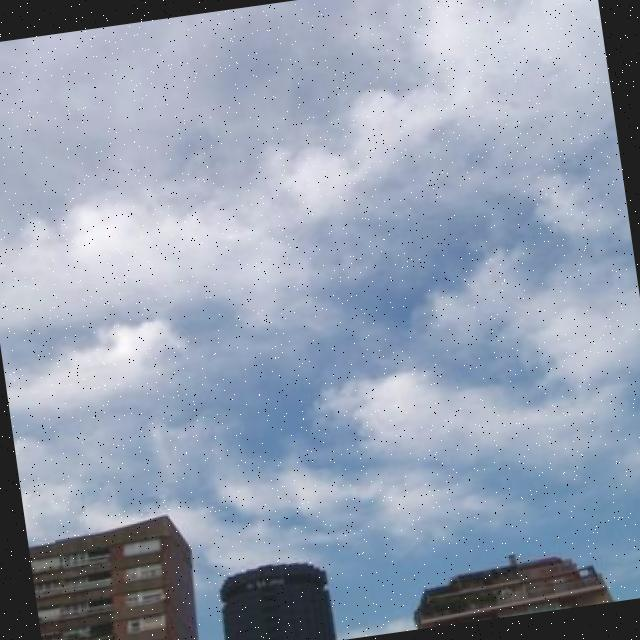Ci: (1, 1, 640, 496)
